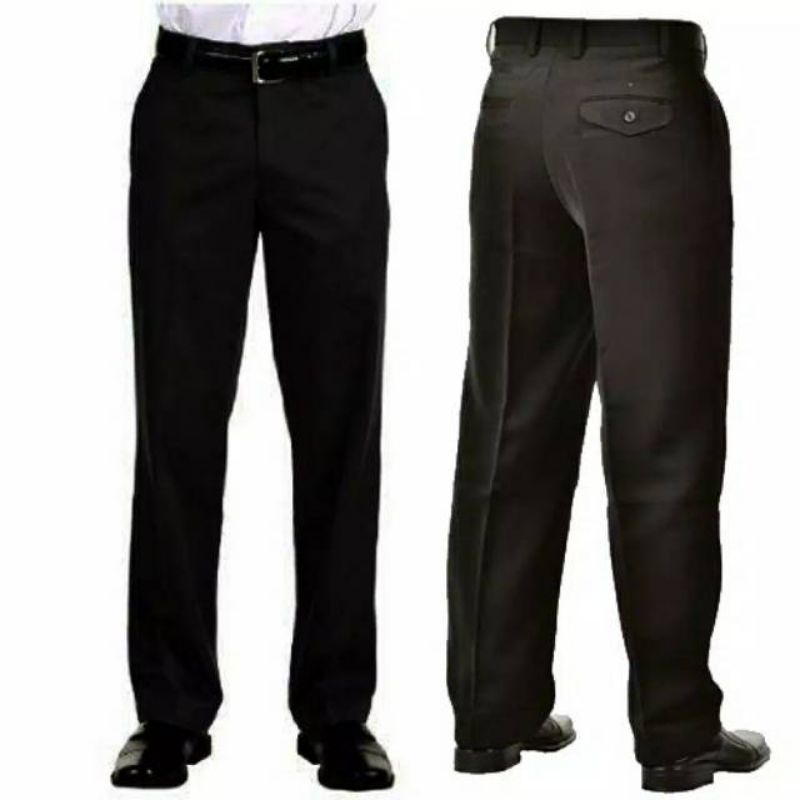celana_benar: (436, 20, 738, 734), (118, 69, 384, 716)
sabuk_ada: (150, 37, 375, 69)
